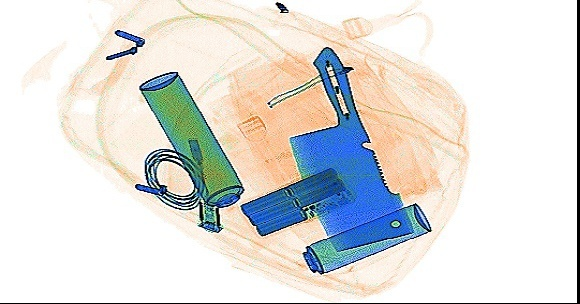knife: (286, 45, 415, 253)
powerbank: (237, 163, 355, 237)
pressure: (137, 69, 247, 214), (296, 200, 431, 277)
